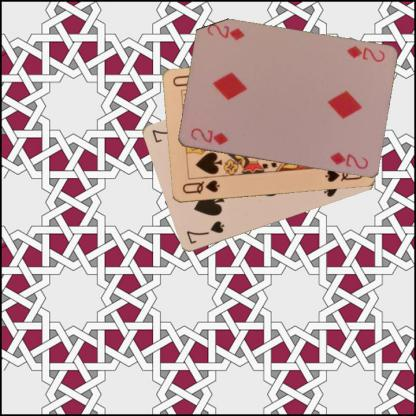2d: (188, 125, 229, 147), (344, 42, 386, 63)
7s: (184, 218, 226, 246)
Qs: (180, 177, 221, 196)
